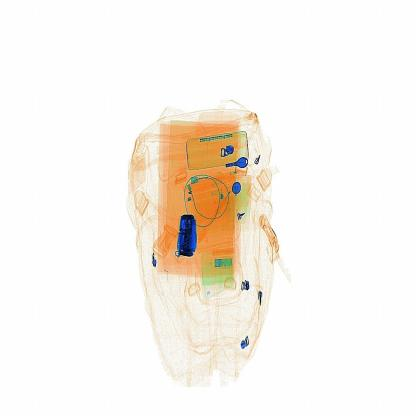scissors: (172, 214, 204, 266)
